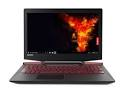laptop: (11, 5, 116, 84)
